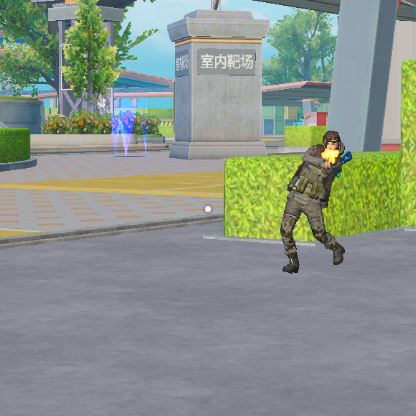ren: (283, 129, 345, 272)
tou: (322, 130, 345, 152)
